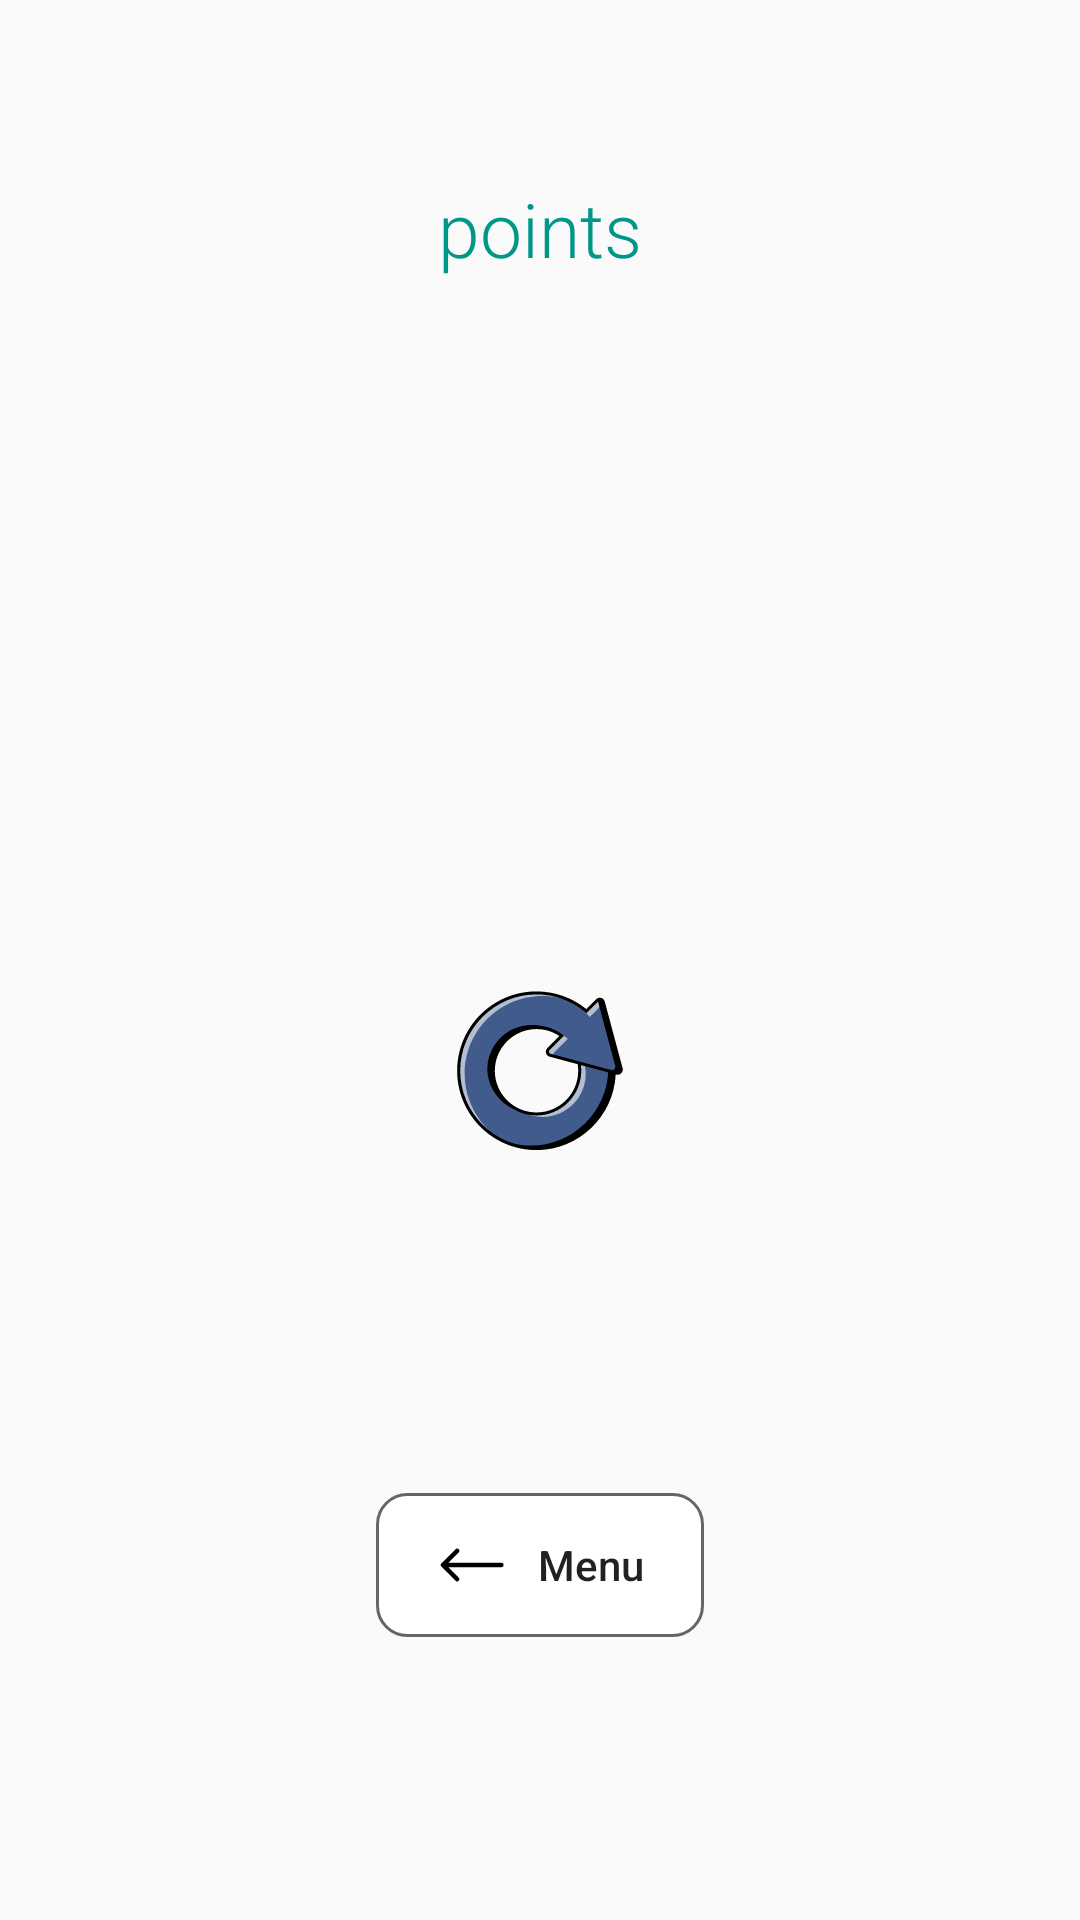

Icons on this 1080 x 1920 Android screen, each with the point to tap as [x,y]:
again: [540,1070]
